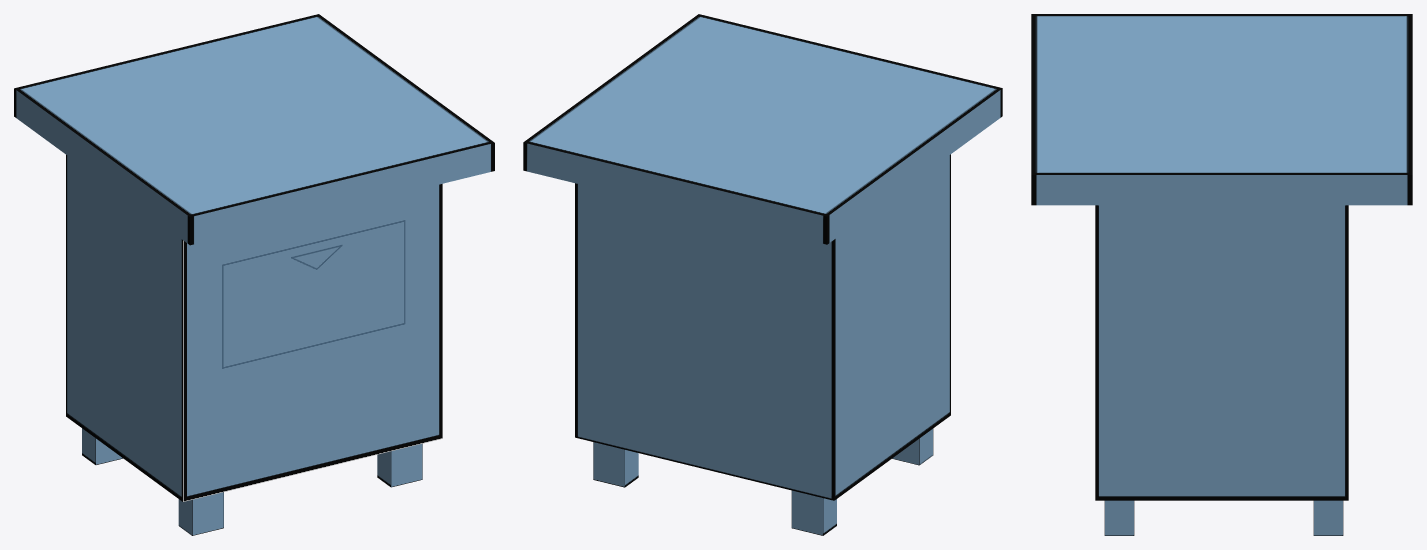
Rendered from buro.obj.
3 renders of one model, left to right at view 1: azimuth 30°, elevation 25°; view 2: azimuth 150°, elevation 25°; view 3: azimuth 270°, elevation 25°, orthographic. The views are drawn at different scales.
Parts seen in each view (by area): view 1: buro:polySurface14; view 2: buro:polySurface14; view 3: buro:polySurface14.
Part boxes in pixels (x1,y1,x2,y2): buro:polySurface14: (14,14,494,535); buro:polySurface14: (523,14,1002,535); buro:polySurface14: (1031,14,1412,535).
Size of the model in its own units: 1.08 by 1.19 by 1.08.
Materials: 2 (2 with a texture image).
